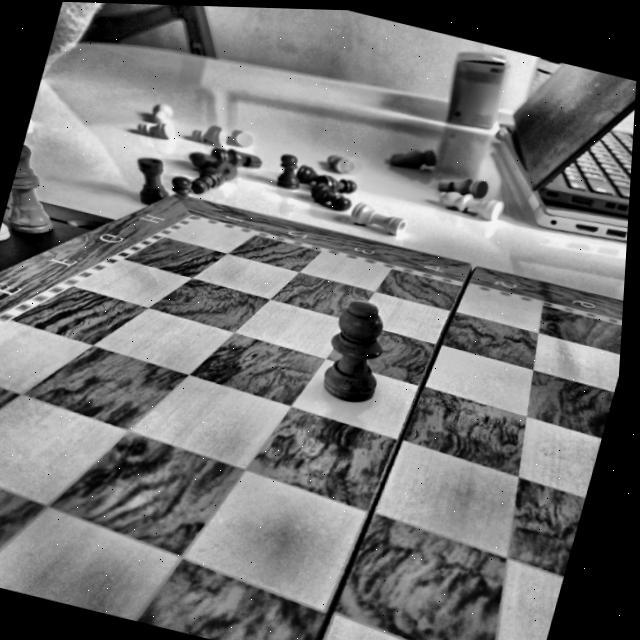black-bishop: (292, 281, 411, 411)
